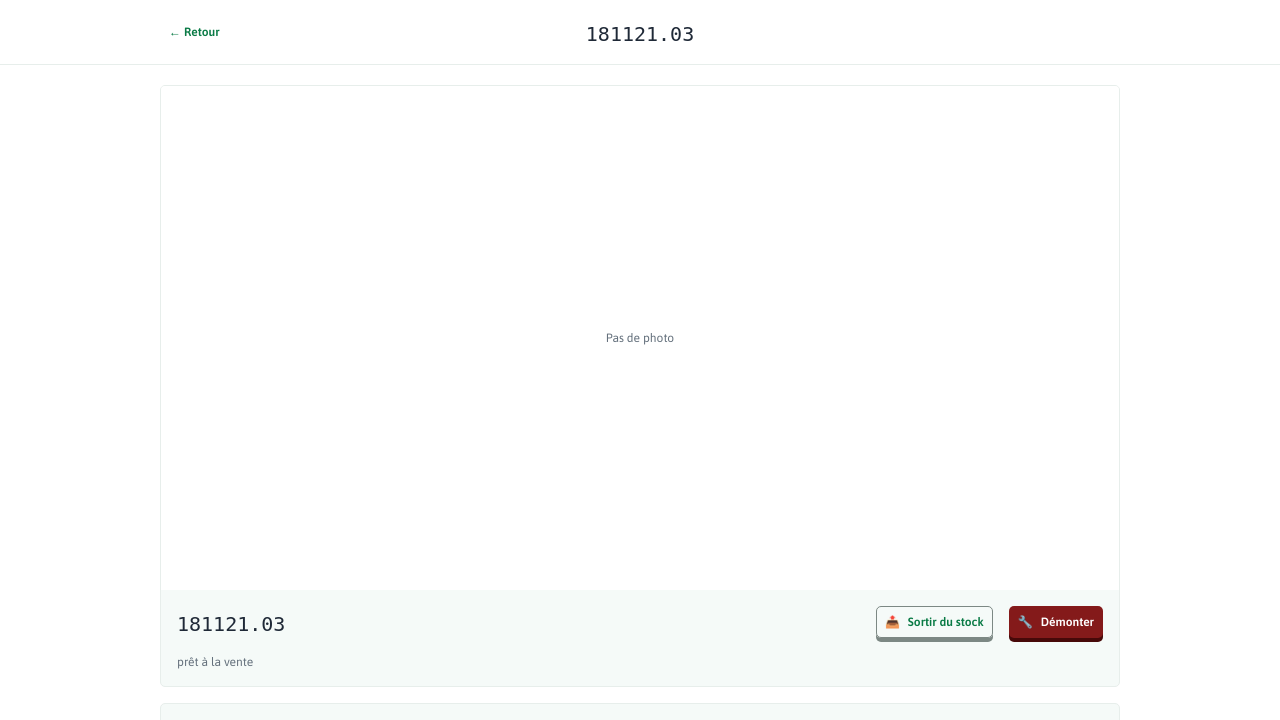
Scenario: un tap seul ne change pas le statut : il faut confirmer
Step 1. Click the button "🔧 Démonter" → (1056, 622), box left=1009, top=606, right=1103, bottom=638
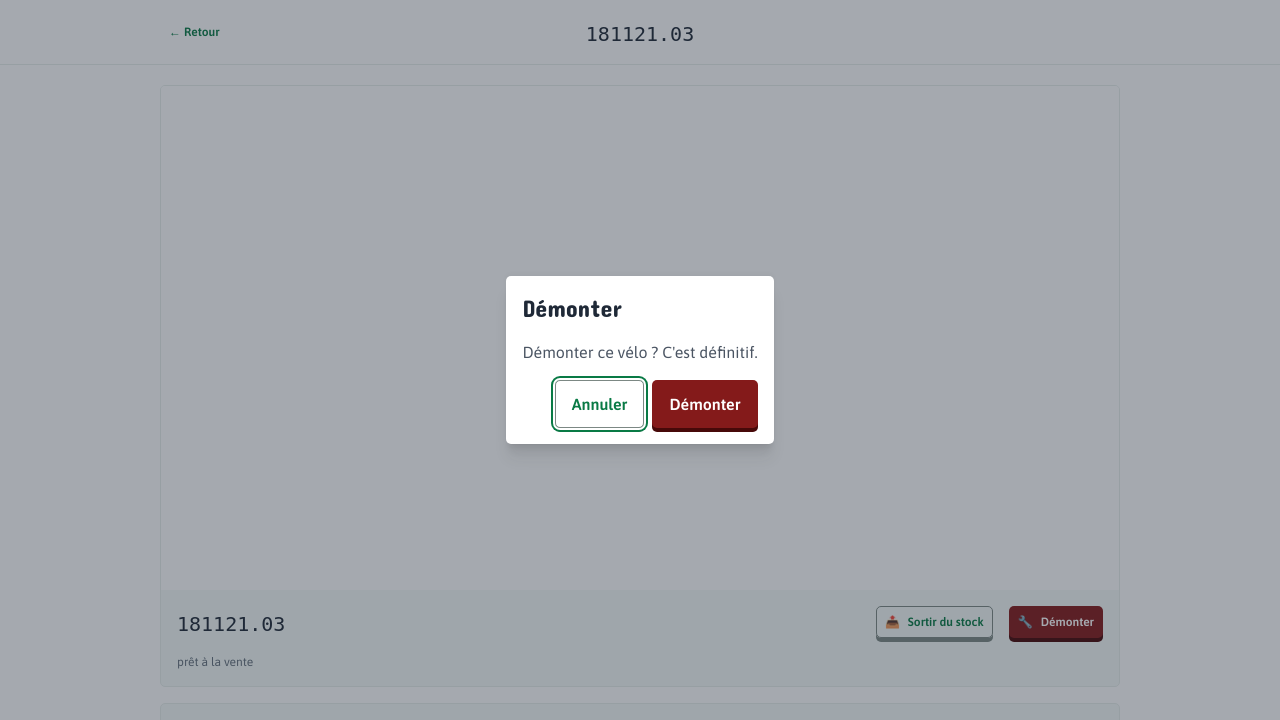
Expected: the text "prêt à la vente" is shown, left=177, top=655, right=253, bottom=669
Step 2. Click the button "Démonter" → (705, 404), box left=652, top=380, right=758, bottom=428
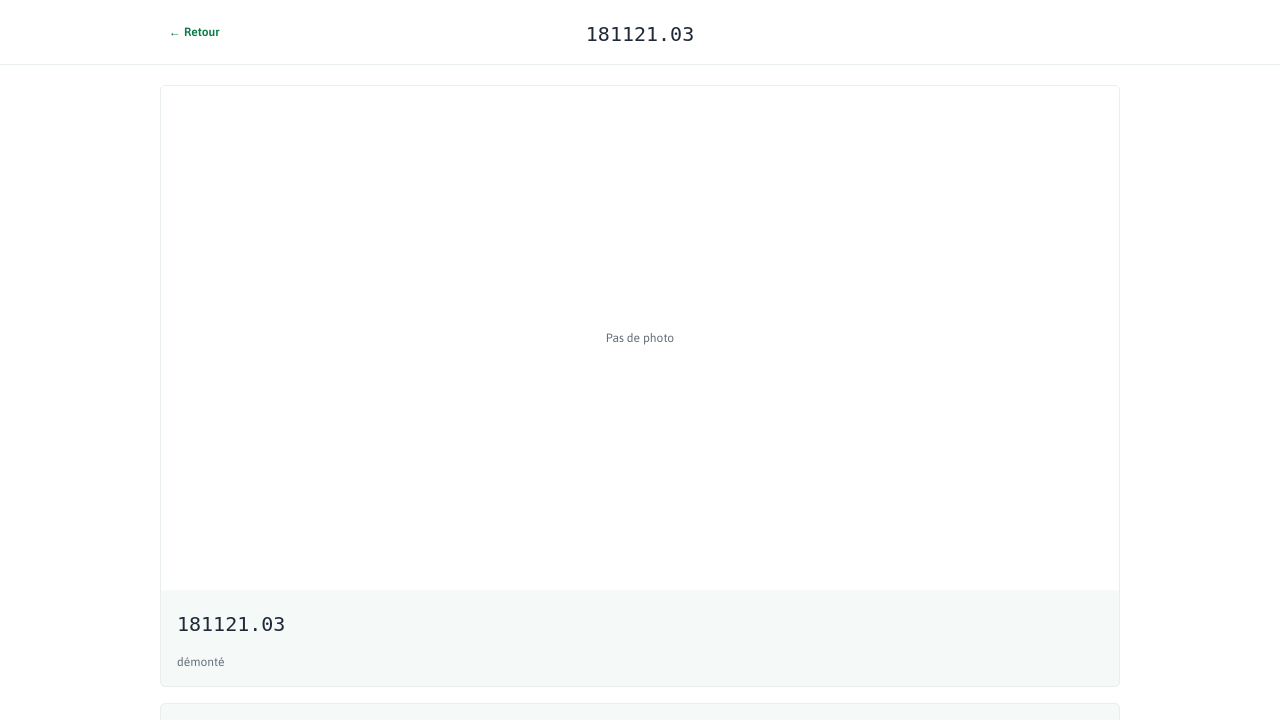
Expected: the text "démonté" is shown, left=177, top=655, right=224, bottom=669
Expected: the button "Sortir du stock" is gone
